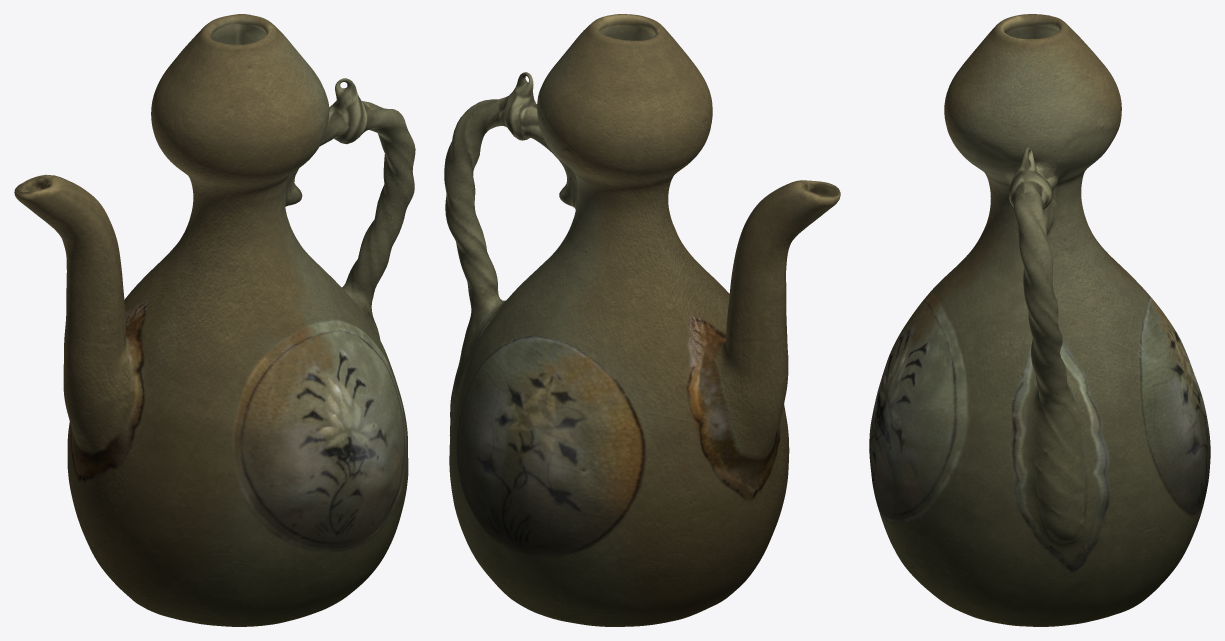
Rendered from SM_Celadon_Kettle_kettle.fbx.
3 renders of one model, left to right at view 1: azimuth 30°, elevation 25°; view 2: azimuth 150°, elevation 25°; view 3: azimuth 270°, elevation 25°, orthographic.
Visible parts, largest first — view 1: SM_Celadon_Kettle_kettle; view 2: SM_Celadon_Kettle_kettle; view 3: SM_Celadon_Kettle_kettle.
Part boxes in pixels (<box>): SM_Celadon_Kettle_kettle: <box>14,14,415,626</box>; SM_Celadon_Kettle_kettle: <box>444,14,840,626</box>; SM_Celadon_Kettle_kettle: <box>869,14,1210,626</box>.
Bounding box in the file's own units: 17.23 × 12.98 × 23.21.
Materials: 1 (1 with a texture image).
